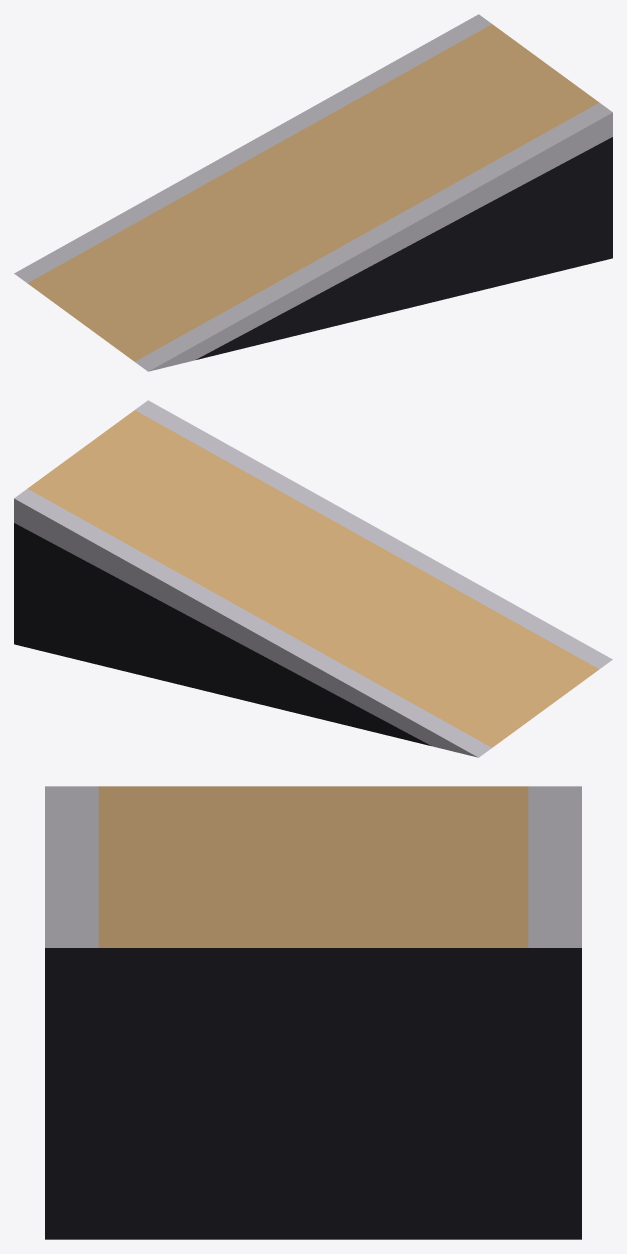
Rendered from Ramp_Half_3_Both.fbx.
The picture shows the model from 3 angles, top to bottom: view 1: azimuth 30°, elevation 25°; view 2: azimuth 150°, elevation 25°; view 3: azimuth 270°, elevation 25°; orthographic projection. The views are drawn at different scales.
Visible parts, largest first — view 1: Ramp_Half_3_Both; view 2: Ramp_Half_3_Both; view 3: Ramp_Half_3_Both.
Part boxes in pixels (x1,y1,x2,y2): Ramp_Half_3_Both: [14, 14, 612, 371]; Ramp_Half_3_Both: [14, 400, 612, 757]; Ramp_Half_3_Both: [45, 786, 581, 1239].
Bounding box in the file's own units: 10 × 3 × 5.
